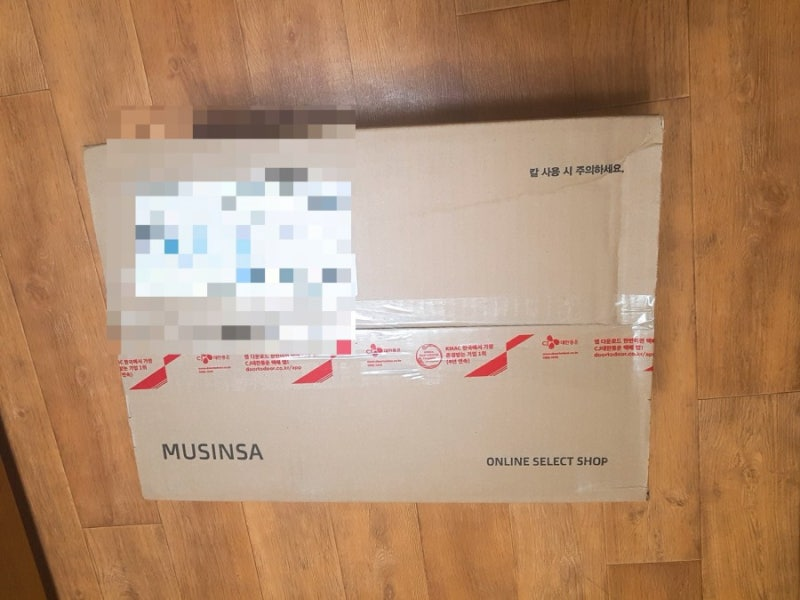undamaged: (86, 118, 659, 502)
